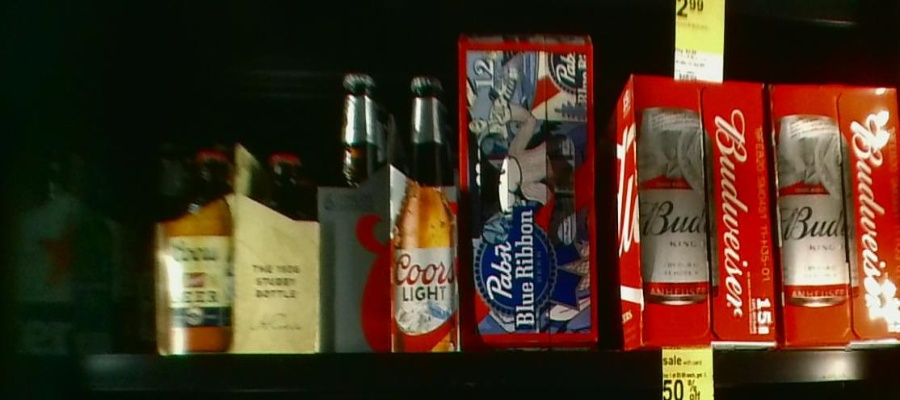bottle: (602, 75, 777, 350), (459, 32, 599, 352), (317, 65, 457, 353), (153, 149, 318, 360), (768, 84, 900, 347), (1, 116, 128, 348), (126, 141, 155, 350)
